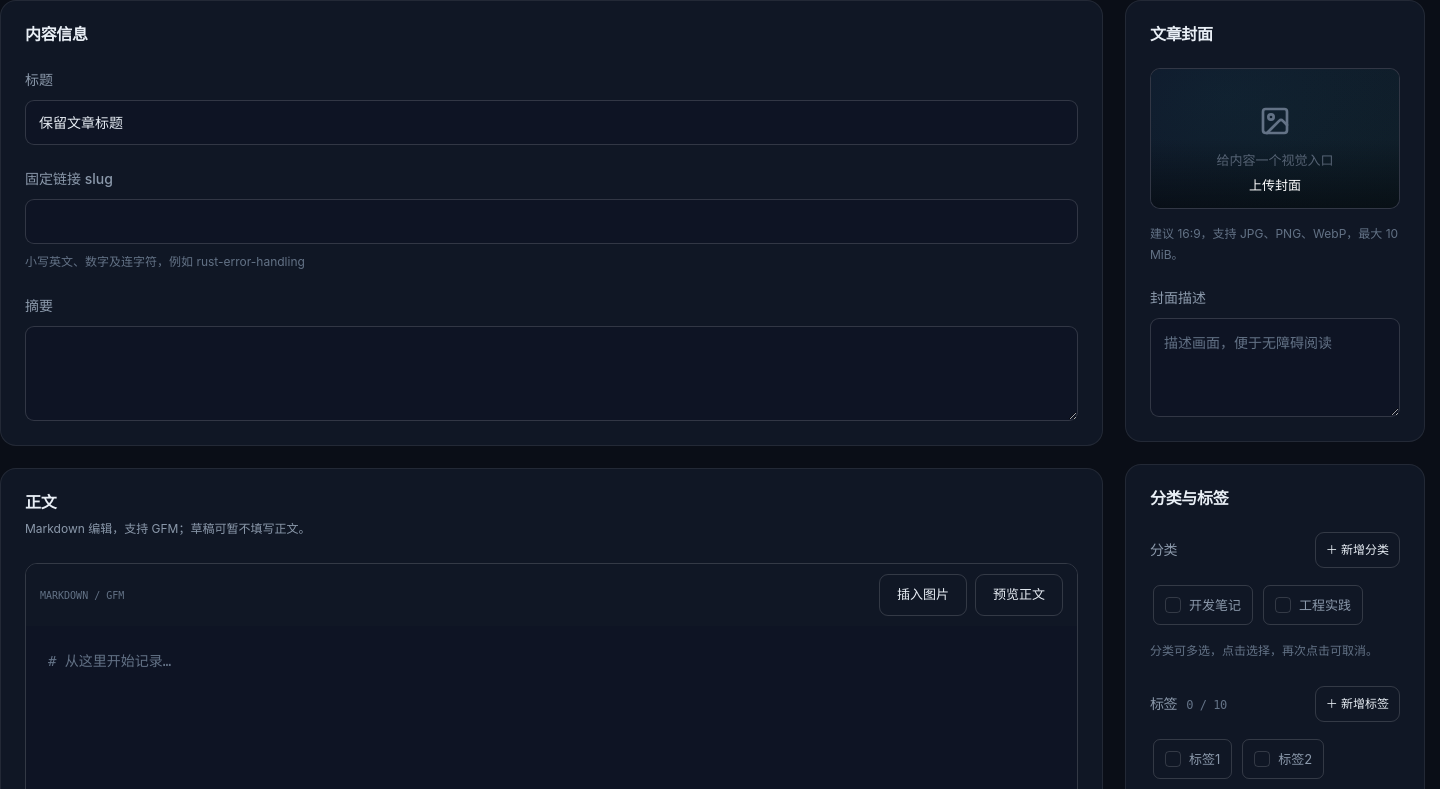
Test: 文章封面及分类标签 › 新增失败保留弹窗输入与已有文章字段
Check: the button "开发笔记" is shown, box [1153,585,1253,625]
Step 1. Click the button "＋ 新增标签" → x=1357, y=704, box [1315,686,1400,722]
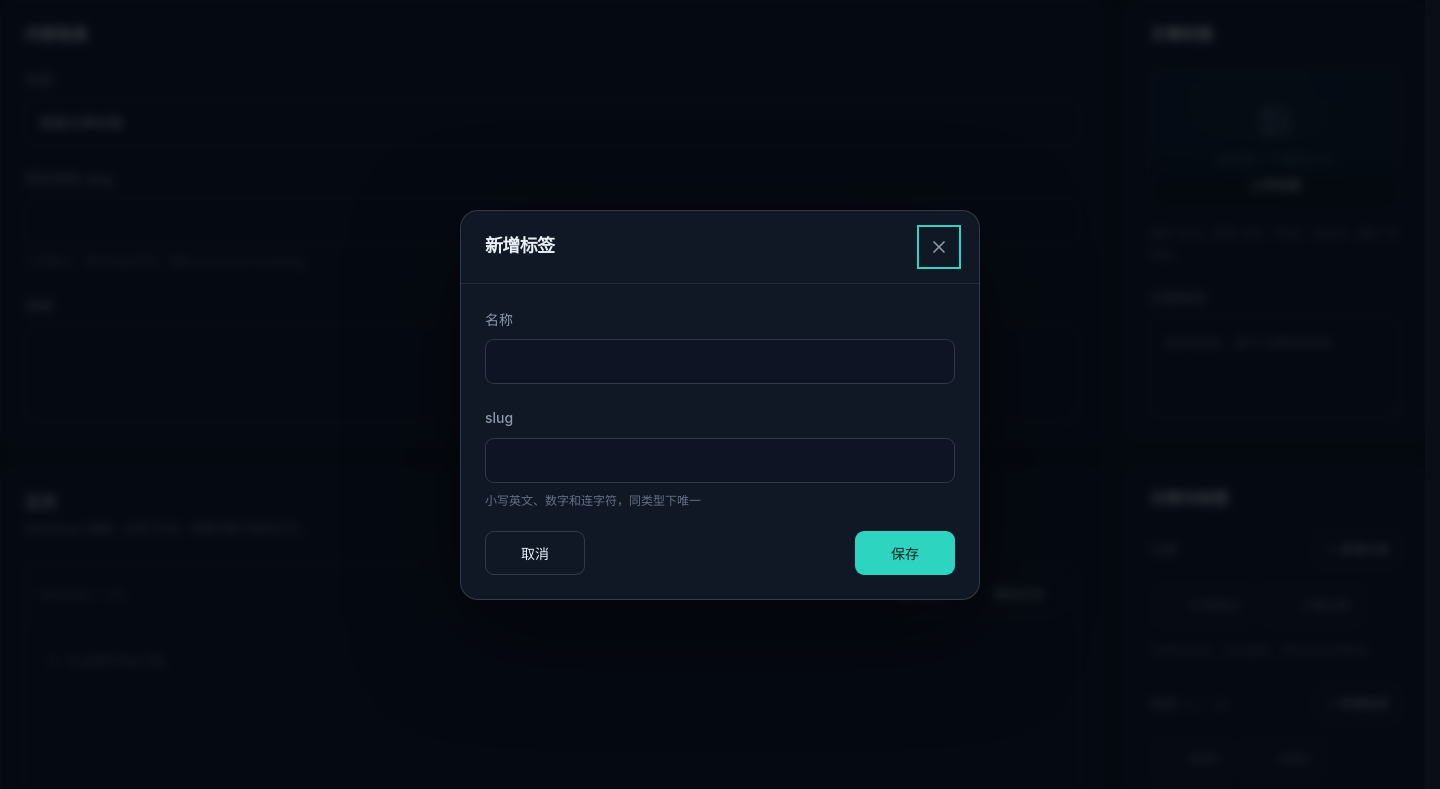
Step 2. Type "失败标签" into the field labelled "名称" → x=720, y=362, box [485,339,955,384]
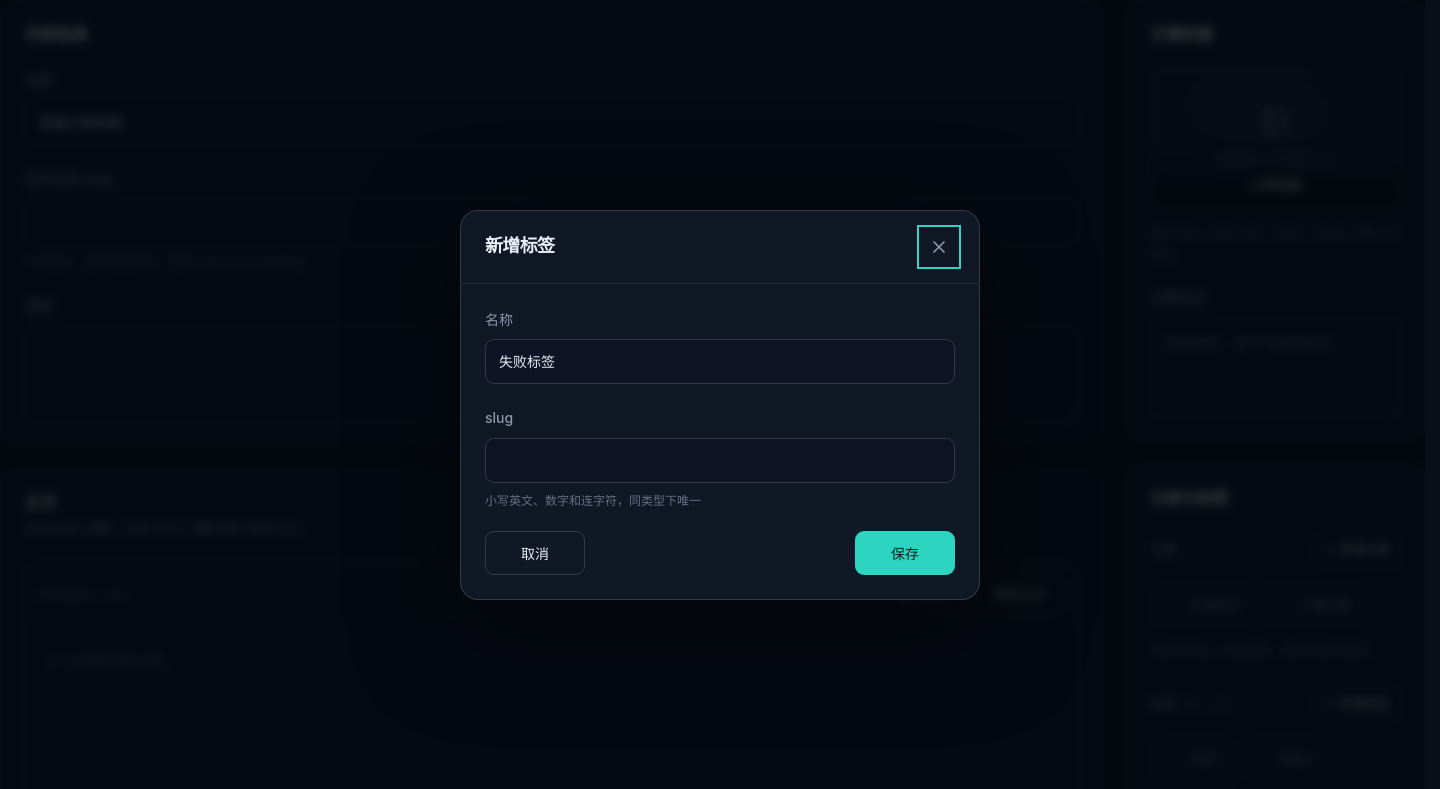
Step 3. Type "failed-tag" into the field labelled "slug" → x=720, y=461, box [485,438,955,483]
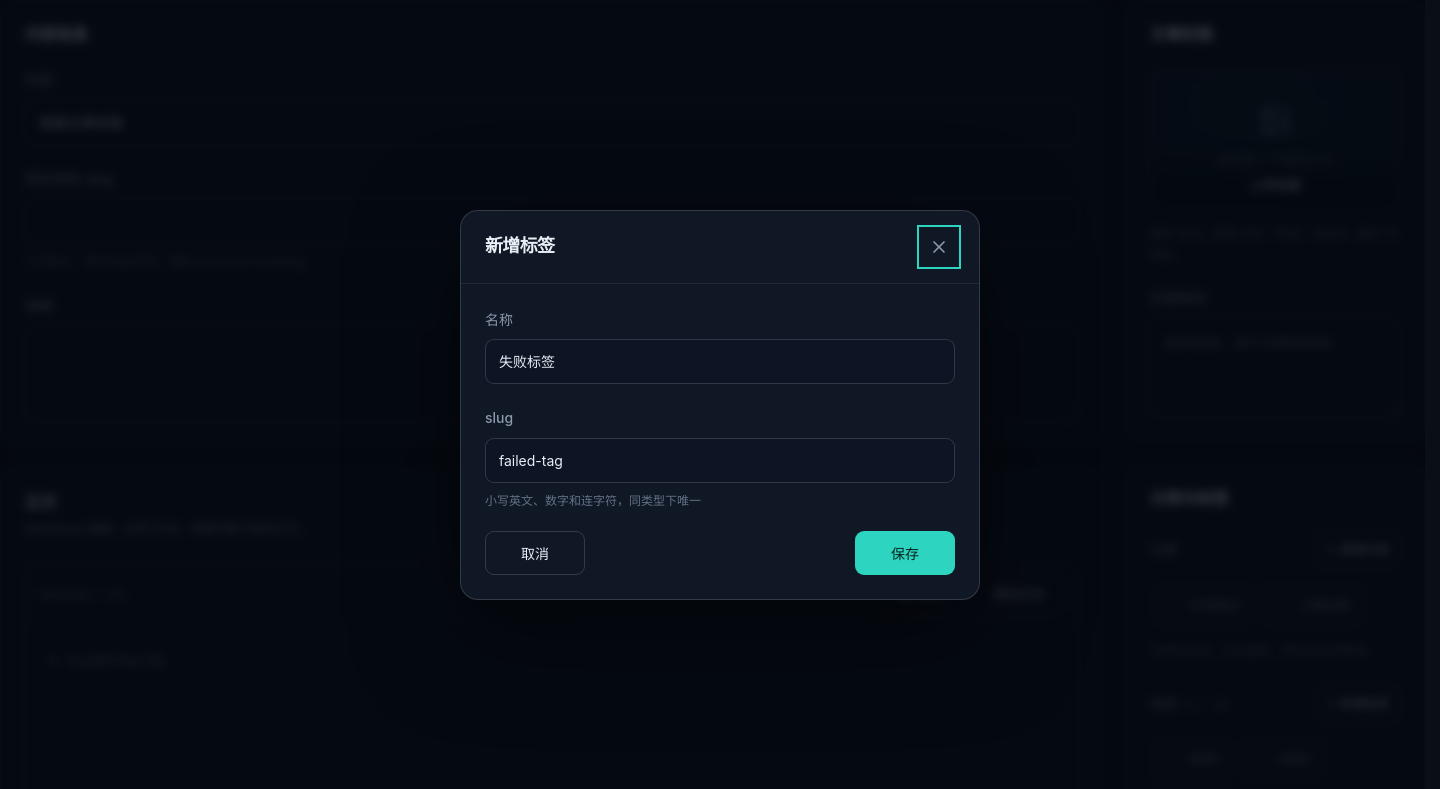
Step 4. Click the button "保存" → x=905, y=554, box [855,532,955,576]
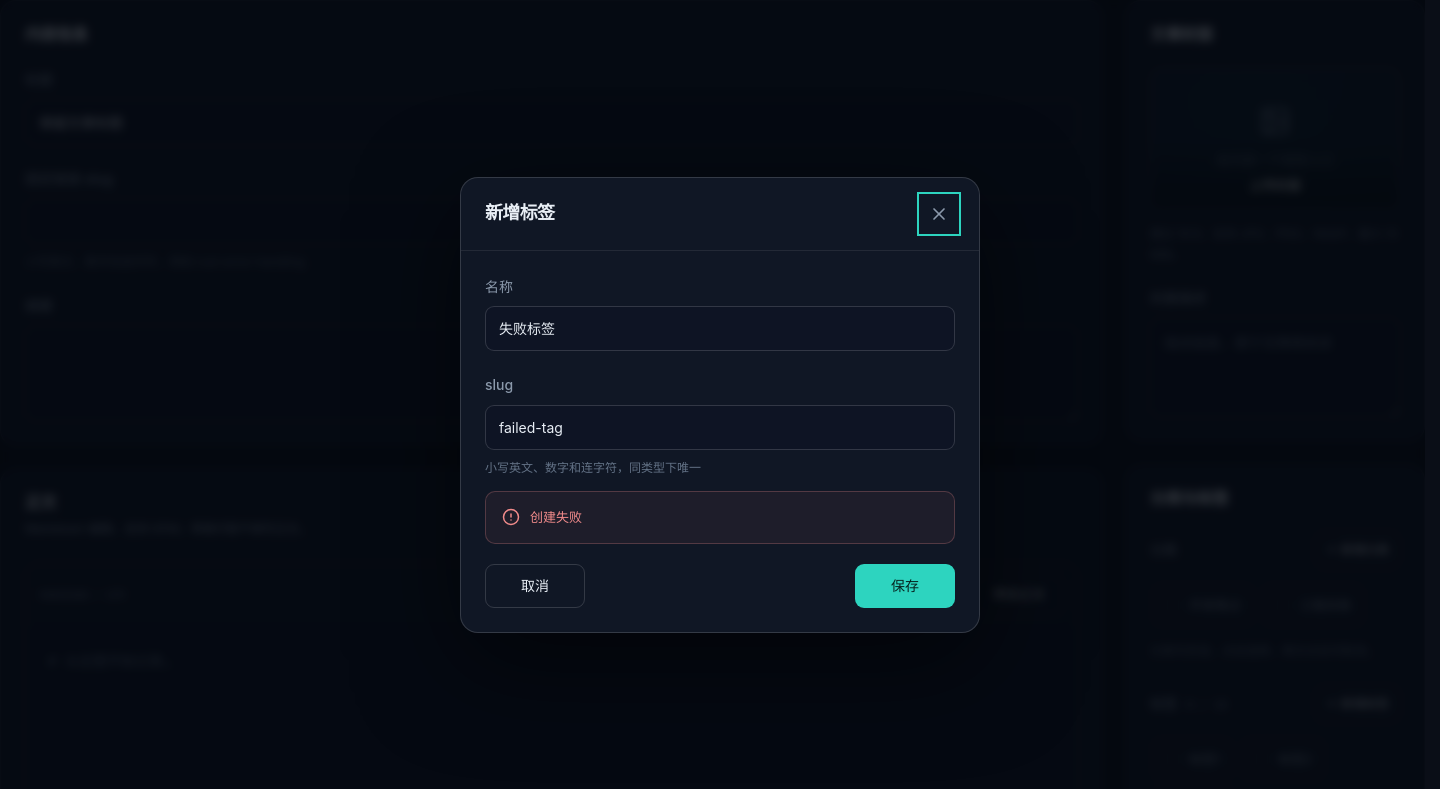
Check: the message "创建失败" is shown, box [485,491,955,544]
